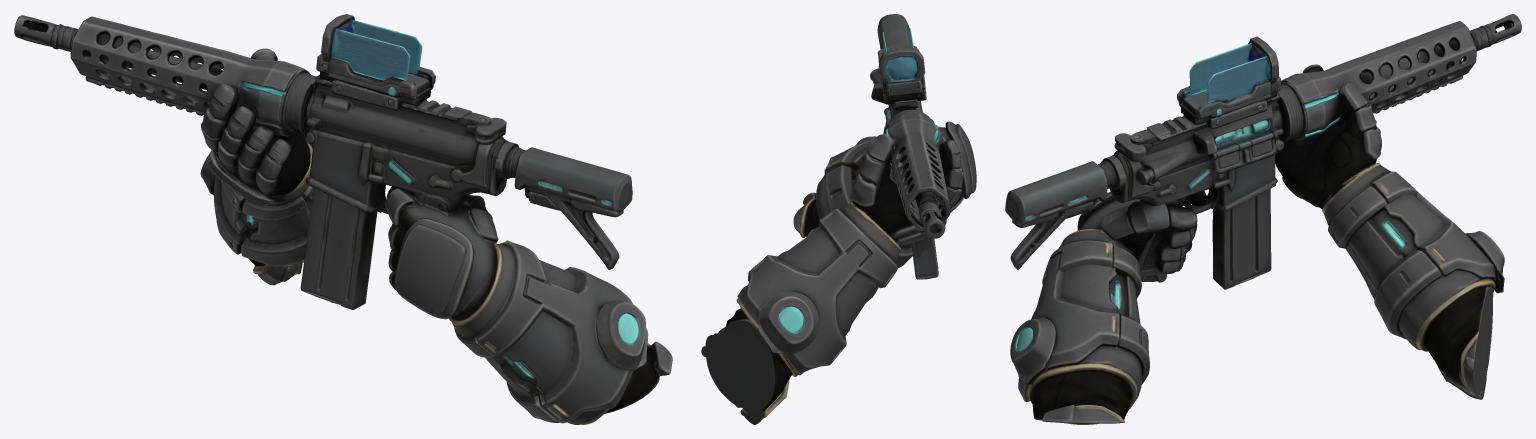
File: auto_rifle_vm.glb
The picture shows the model from 3 angles, left to right: view 1: azimuth 30°, elevation 25°; view 2: azimuth 150°, elevation 25°; view 3: azimuth 270°, elevation 25°; orthographic projection. The views are drawn at different scales.
Parts seen in each view (by area): view 1: tripo_node_0d7d96be-4b40-45c1-8548-b1c2d43fbb16; view 2: tripo_node_0d7d96be-4b40-45c1-8548-b1c2d43fbb16; view 3: tripo_node_0d7d96be-4b40-45c1-8548-b1c2d43fbb16.
Boxes of the visible parts, box(x1,y1,x2,y2) form: tripo_node_0d7d96be-4b40-45c1-8548-b1c2d43fbb16: box(14, 14, 672, 424); tripo_node_0d7d96be-4b40-45c1-8548-b1c2d43fbb16: box(701, 14, 976, 424); tripo_node_0d7d96be-4b40-45c1-8548-b1c2d43fbb16: box(1005, 14, 1521, 424).
Size of the model in its own units: 0.7716 by 0.6618 by 0.9305.
Materials: 1 (1 with a texture image).
